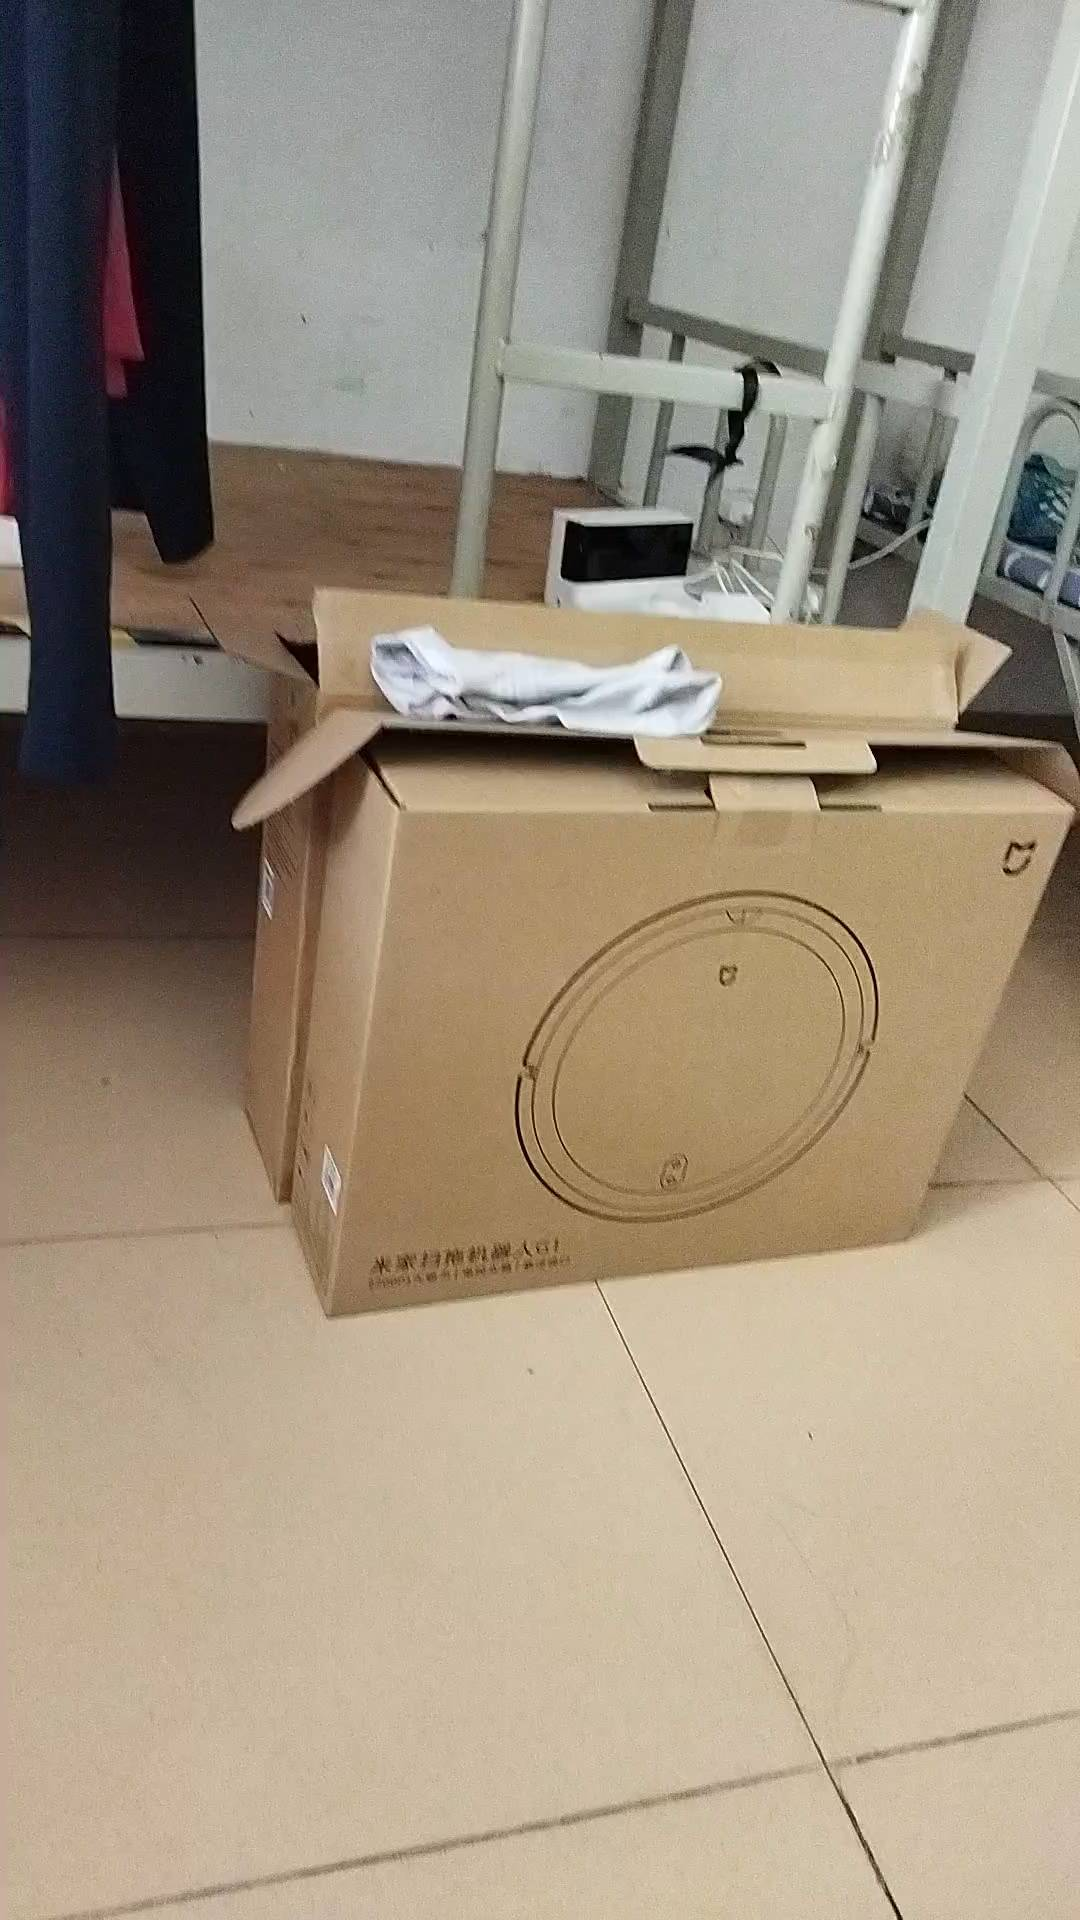recharge seat: (545, 504, 720, 613)
